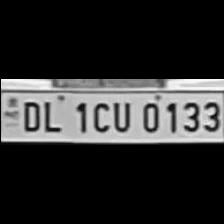0: (135, 98, 161, 132)
1: (66, 99, 88, 134), (160, 99, 180, 134)
3: (179, 98, 201, 132), (200, 96, 220, 132)
C: (88, 98, 110, 132)
D: (16, 98, 40, 132)
L: (38, 96, 64, 134)
U: (108, 98, 134, 132)
